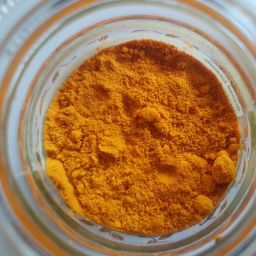Turmeric dried: (34, 41, 245, 231), (85, 61, 216, 217)
